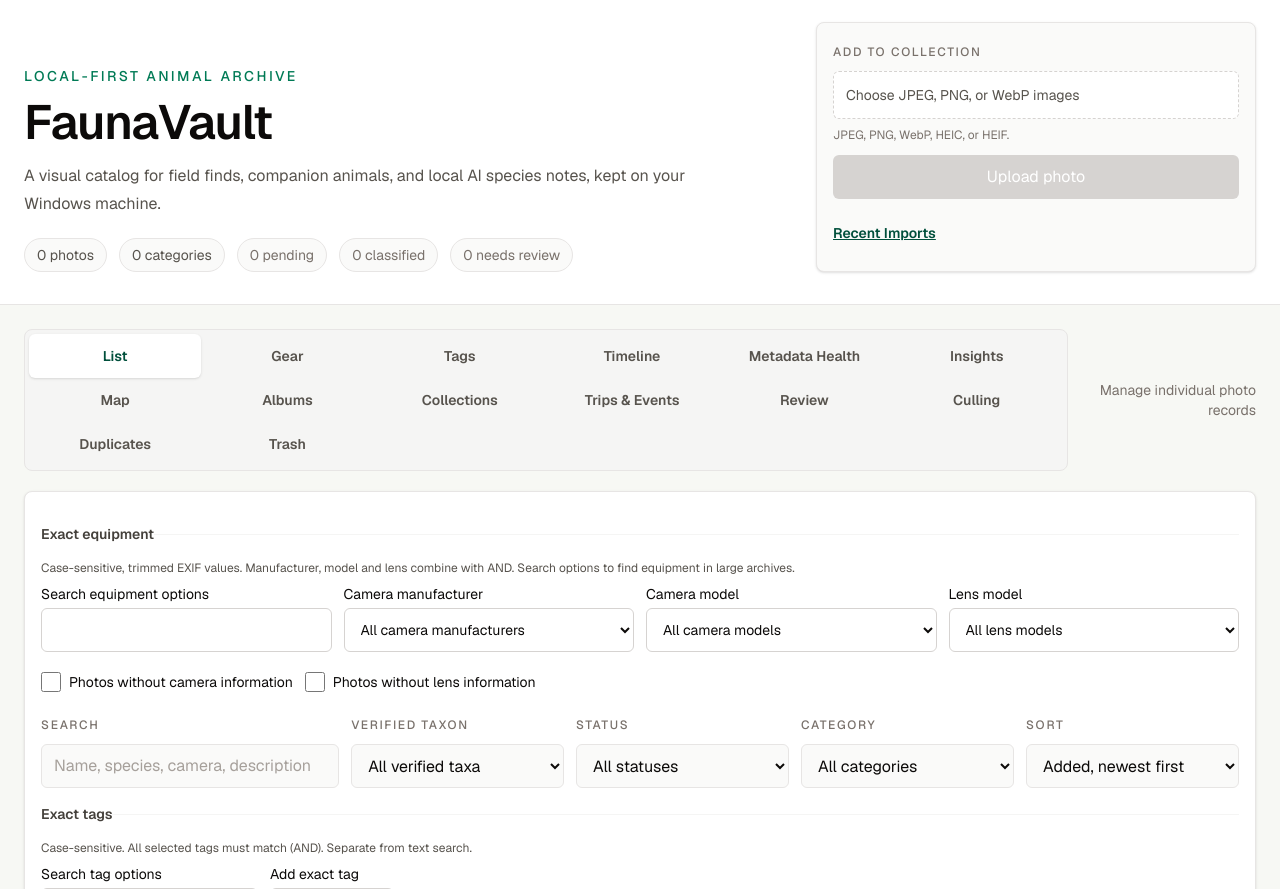
it: switches between List and Album and renders an unverified card
Click the link "Albums" at (287, 400), box [262,391,313,409]
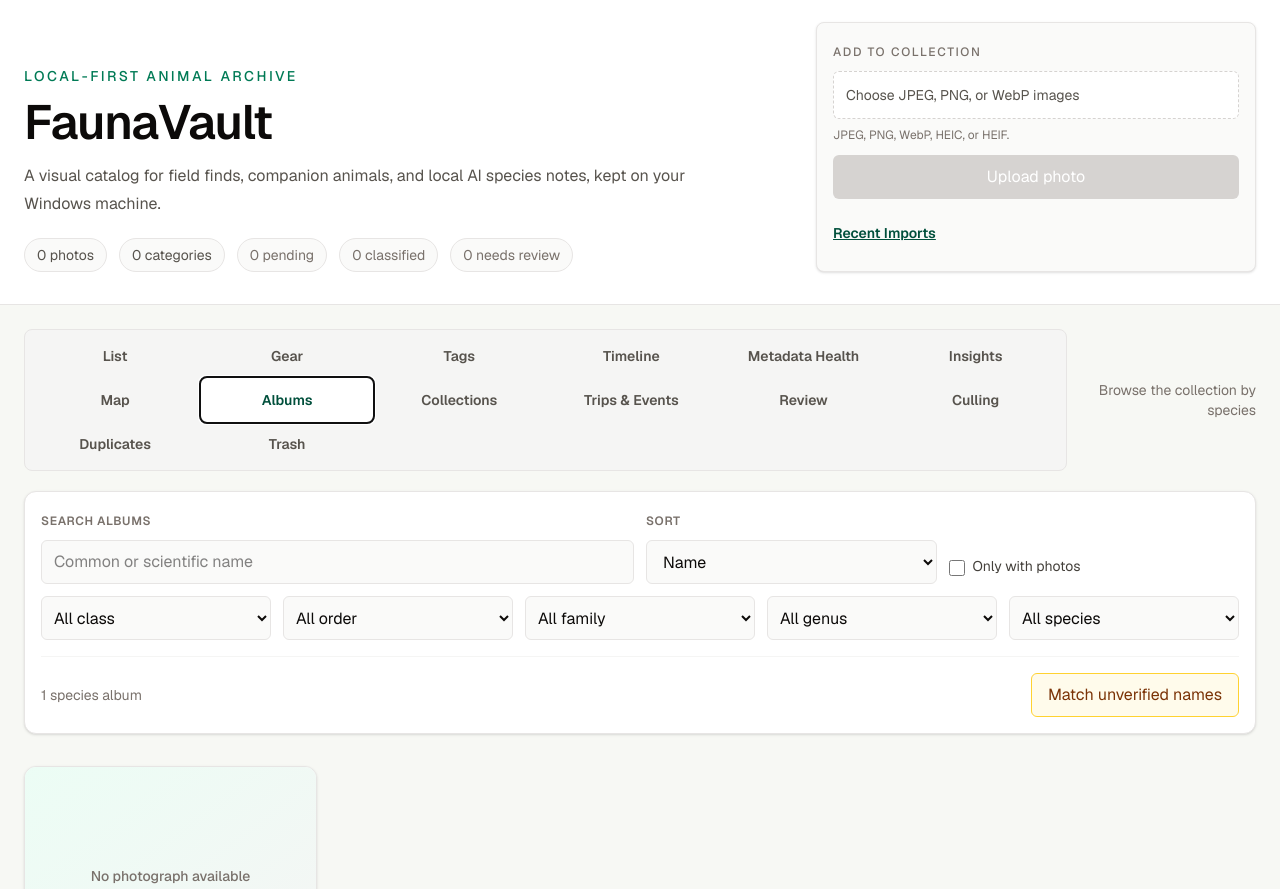
Click the link "List" at (115, 356), box [103,347,127,365]
(page scrolled)
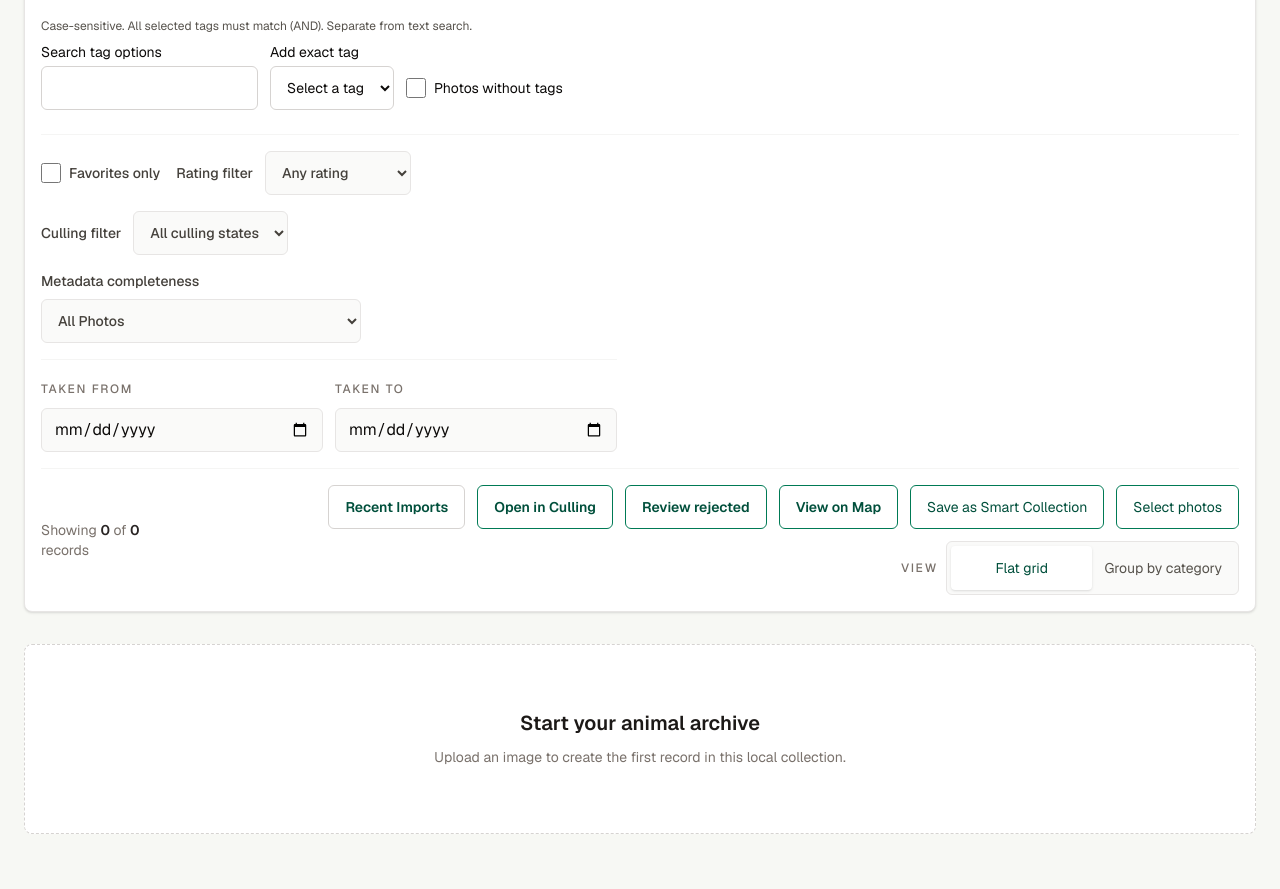
Expected: the heading "Start your animal archive" is shown, [520,710,760,736]
